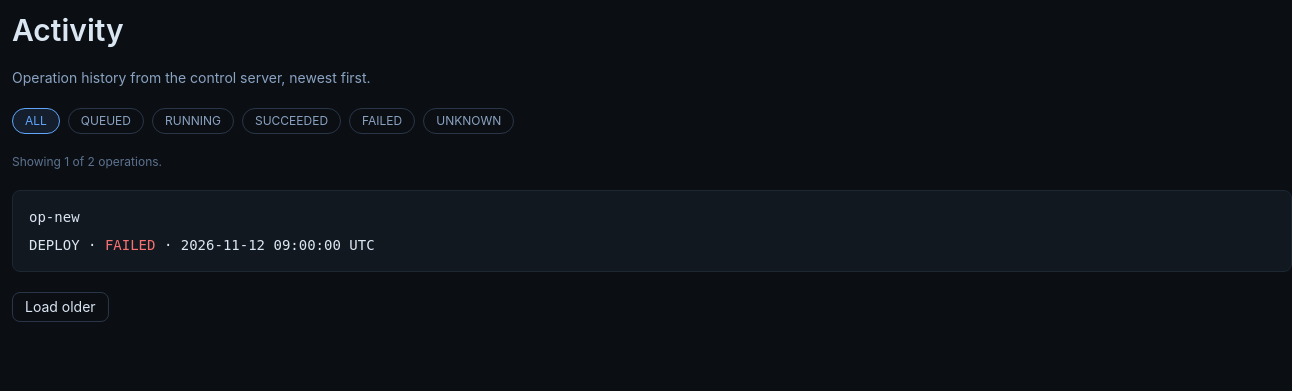
Test case: sends the status filter to the server and pages older rows by offset
Expected: the heading "op-new" is shown, x1=29 y1=209 x2=80 y2=225
Click the button "FAILED" at x=382, y=121, box x1=349 y1=108 x2=415 y2=134
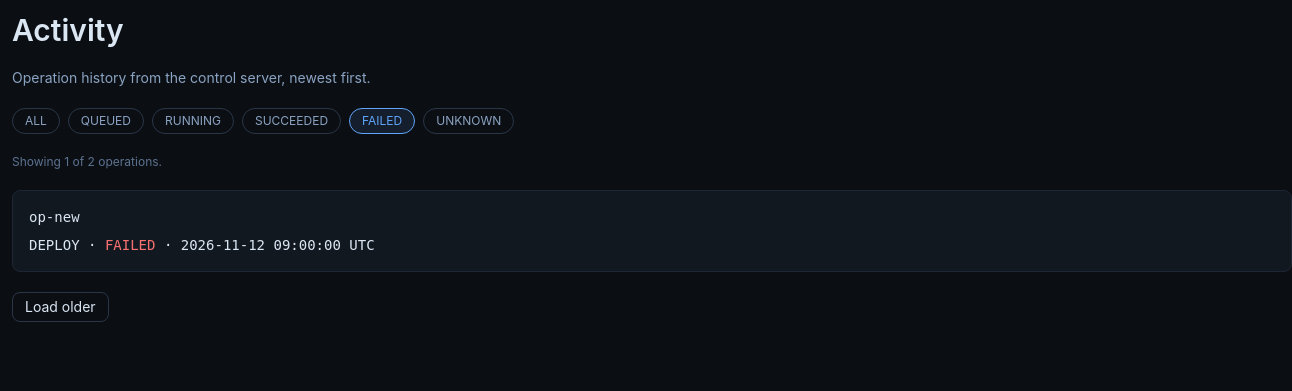
Click the button "Load older" at x=60, y=307, box x1=12 y1=292 x2=109 y2=322
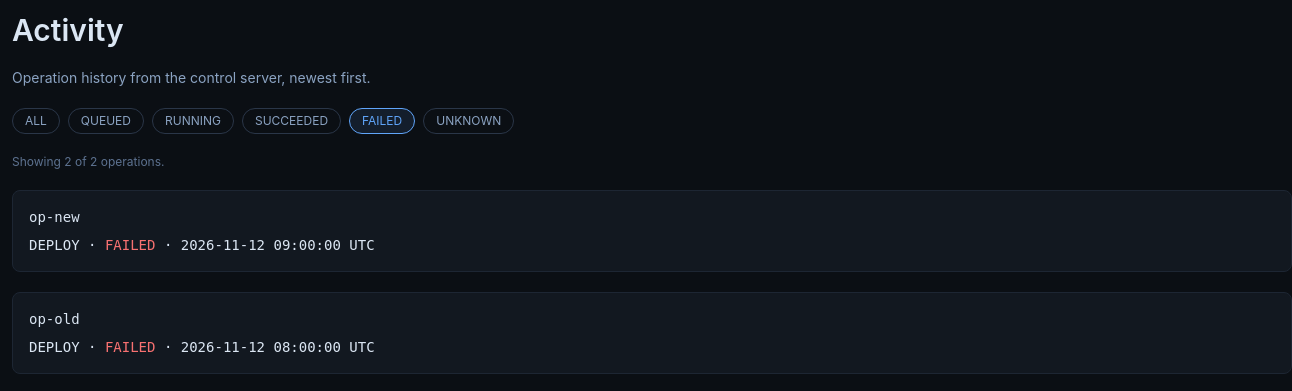
Expected: the heading "op-new" is shown, x1=29 y1=209 x2=80 y2=225
Now the heading "op-old" is shown, box x1=29 y1=311 x2=80 y2=327
